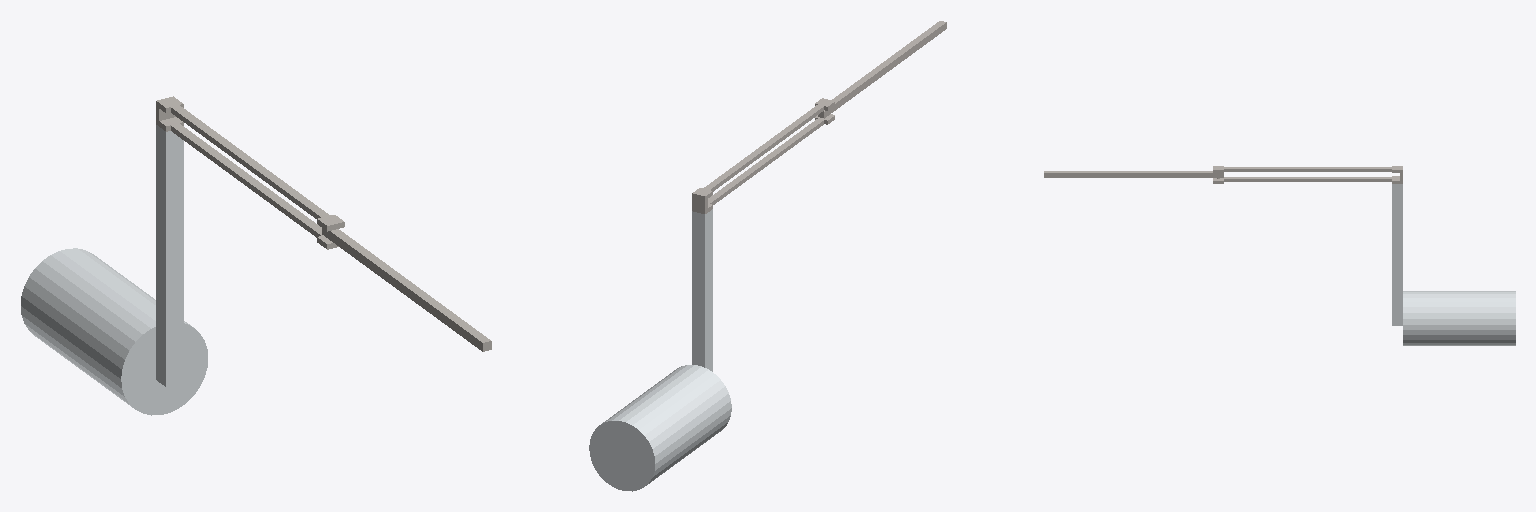
The robot description file, URDF, robot "Assem2.SLDASM":
<robot
  name="Assem2.SLDASM">
  <link
    name="Motor">
    <inertial>
      <origin
        xyz="0.053845 0.054859 0.066218"
        rpy="0 0 0" />
      <mass
        value="0.53005" />
      <inertia
        ixx="0.00052441"
        ixy="-5.8549E-40"
        ixz="-1.2125E-22"
        iyy="0.00052441"
        iyz="1.283E-36"
        izz="0.00016567" />
    </inertial>
    <visual>
      <origin
        xyz="0 0 0"
        rpy="0 0 0" />
      <geometry>
        <mesh
          filename="package://Assem2.SLDASM/meshes/Motor.STL" />
      </geometry>
      <material
        name="">
        <color
          rgba="0.89804 0.91765 0.92941 1" />
      </material>
    </visual>
    <collision>
      <origin
        xyz="0 0 0"
        rpy="0 0 0" />
      <geometry>
        <mesh
          filename="package://Assem2.SLDASM/meshes/Motor.STL" />
      </geometry>
    </collision>
  </link>
  <link
    name="cart">
    <inertial>
      <origin
        xyz="0 0.064666 0.0099811"
        rpy="0 0 0" />
      <mass
        value="0.0378" />
      <inertia
        ixx="6.2025E-05"
        ixy="-5.8011E-22"
        ixz="9.0092E-24"
        iyy="6.355E-07"
        iyz="4.6281E-08"
        izz="6.2019E-05" />
    </inertial>
    <visual>
      <origin
        xyz="0 0 0"
        rpy="0 0 0" />
      <geometry>
        <mesh
          filename="package://Assem2.SLDASM/meshes/cart.STL" />
      </geometry>
      <material
        name="">
        <color
          rgba="0.89804 0.91765 0.92941 1" />
      </material>
    </visual>
    <collision>
      <origin
        xyz="0 0 0"
        rpy="0 0 0" />
      <geometry>
        <mesh
          filename="package://Assem2.SLDASM/meshes/cart.STL" />
      </geometry>
    </collision>
  </link>
  <joint
    name="joint1"
    type="continuous">
    <origin
      xyz="0.053845 -0.11123 0.054859"
      rpy="1.5708 0 0" />
    <parent
      link="Motor" />
    <child
      link="cart" />
    <axis
      xyz="0 0 -1" />
  </joint>
  <link
    name="pendulum1">
    <inertial>
      <origin
        xyz="0 0.011446 0.075976"
        rpy="0 0 0" />
      <mass
        value="0.047223" />
      <inertia
        ixx="0.0001408"
        ixy="3.2189E-22"
        ixz="-4.0096E-21"
        iyy="0.00013978"
        iyz="1.9333E-07"
        izz="1.3646E-06" />
    </inertial>
    <visual>
      <origin
        xyz="0 0 0"
        rpy="0 0 0" />
      <geometry>
        <mesh
          filename="package://Assem2.SLDASM/meshes/pendulum1.STL" />
      </geometry>
      <material
        name="">
        <color
          rgba="0.77647 0.75686 0.73725 1" />
      </material>
    </visual>
    <collision>
      <origin
        xyz="0 0 0"
        rpy="0 0 0" />
      <geometry>
        <mesh
          filename="package://Assem2.SLDASM/meshes/pendulum1.STL" />
      </geometry>
    </collision>
  </link>
  <joint
    name="joint2"
    type="continuous">
    <origin
      xyz="0 0.13 0.01"
      rpy="0 0 0" />
    <parent
      link="cart" />
    <child
      link="pendulum1" />
    <axis
      xyz="0 -1 0" />
  </joint>
  <link
    name="pendulum2">
    <inertial>
      <origin
        xyz="1.2143E-15 -0.0065 0.073954"
        rpy="0 0 0" />
      <mass
        value="0.032452" />
      <inertia
        ixx="7.0853E-05"
        ixy="2.2322E-22"
        ixz="-3.9539E-22"
        iyy="7.0843E-05"
        iyz="3.7619E-22"
        izz="1.4335E-07" />
    </inertial>
    <visual>
      <origin
        xyz="0 0 0"
        rpy="0 0 0" />
      <geometry>
        <mesh
          filename="package://Assem2.SLDASM/meshes/pendulum2.STL" />
      </geometry>
      <material
        name="">
        <color
          rgba="0.77647 0.75686 0.73725 1" />
      </material>
    </visual>
    <collision>
      <origin
        xyz="0 0 0"
        rpy="0 0 0" />
      <geometry>
        <mesh
          filename="package://Assem2.SLDASM/meshes/pendulum2.STL" />
      </geometry>
    </collision>
  </link>
  <joint
    name="joint3"
    type="continuous">
    <origin
      xyz="0 0.005 0.16"
      rpy="0 0 -3.1416" />
    <parent
      link="pendulum1" />
    <child
      link="pendulum2" />
    <axis
      xyz="0 1 0" />
  </joint>
</robot>

--- What the picture shows (computed from the rendered views, not written in the file) ---
The picture shows the robot from 3 angles, left to right: view 1: azimuth 30°, elevation 25°; view 2: azimuth 150°, elevation 25°; view 3: azimuth 270°, elevation 25°; orthographic projection.
Robot: Assem2.SLDASM — 4 links, 3 joints (3 continuous); root link Motor; default pose: every joint at zero.
Visible links, largest first — view 1: Motor, cart, pendulum1, pendulum2; view 2: Motor, cart, pendulum1, pendulum2; view 3: Motor, pendulum1, cart, pendulum2.
Link boxes in pixels (bbox=[...]): Motor: bbox=[21, 248, 207, 415]; cart: bbox=[156, 125, 183, 386]; pendulum1: bbox=[156, 96, 344, 249]; pendulum2: bbox=[322, 219, 491, 351]; Motor: bbox=[589, 365, 731, 491]; cart: bbox=[692, 209, 712, 371]; pendulum1: bbox=[692, 98, 834, 213]; pendulum2: bbox=[818, 21, 946, 118]; Motor: bbox=[1403, 291, 1515, 345]; pendulum1: bbox=[1213, 166, 1402, 183]; cart: bbox=[1392, 184, 1402, 325]; pendulum2: bbox=[1044, 167, 1223, 178].
Size in the robot's own frame: 0.05 by 0.42 by 0.1729 metres.
Meshes: 4 distinct files referenced, 4 mesh visuals loaded (4 binary STL).